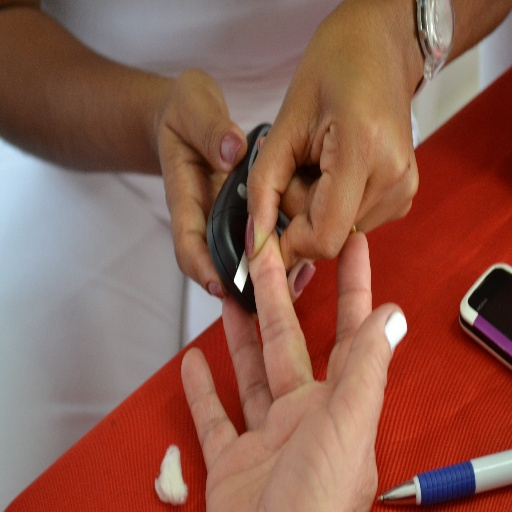hand: (179, 226, 407, 511), (237, 12, 441, 318), (154, 66, 248, 295)
